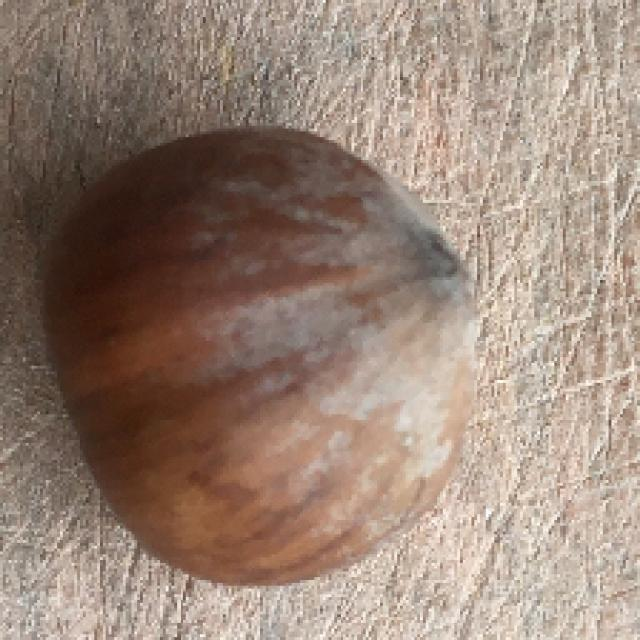qualityHazelnut: (33, 123, 491, 589)
